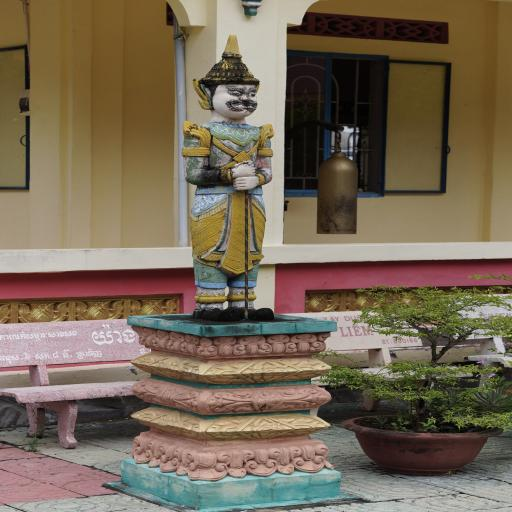than: (172, 23, 294, 325)
